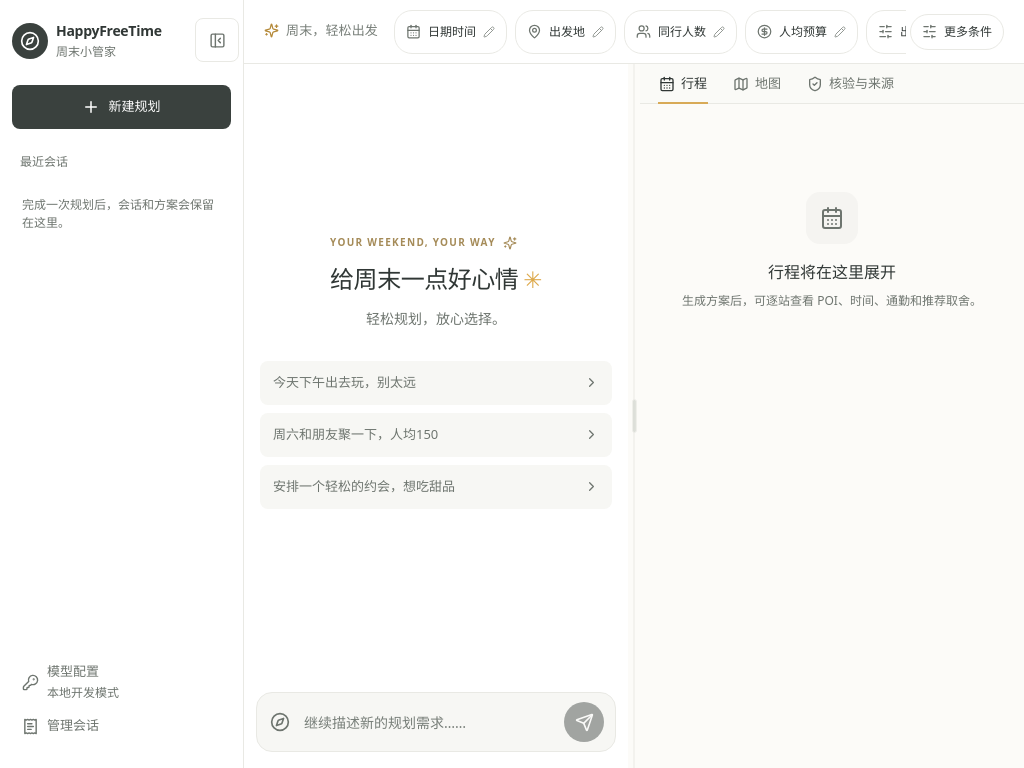
Scenario: planning workspace › shows honest public model usage for fallback records
Type "今天下午出去玩" into the field named "描述你的空闲时间和偏好".
click(430, 722); type("今天下午出去玩")  # box [296, 700, 564, 744]
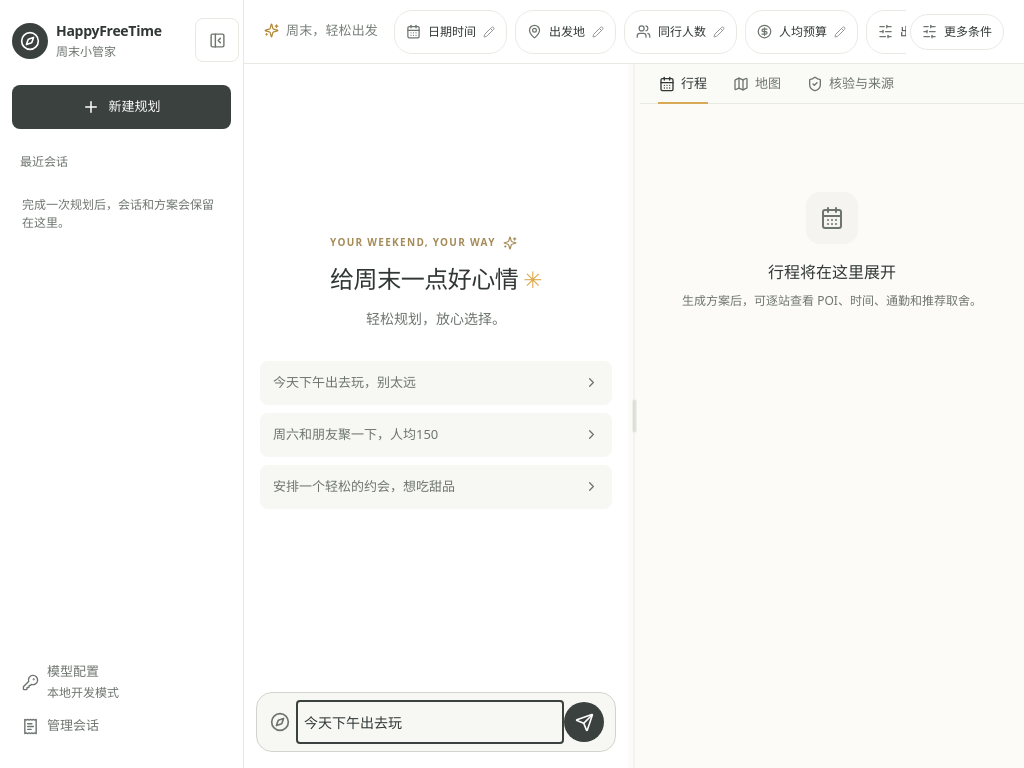
Click the button named "发送需求".
click(584, 722)  # box [564, 702, 604, 742]
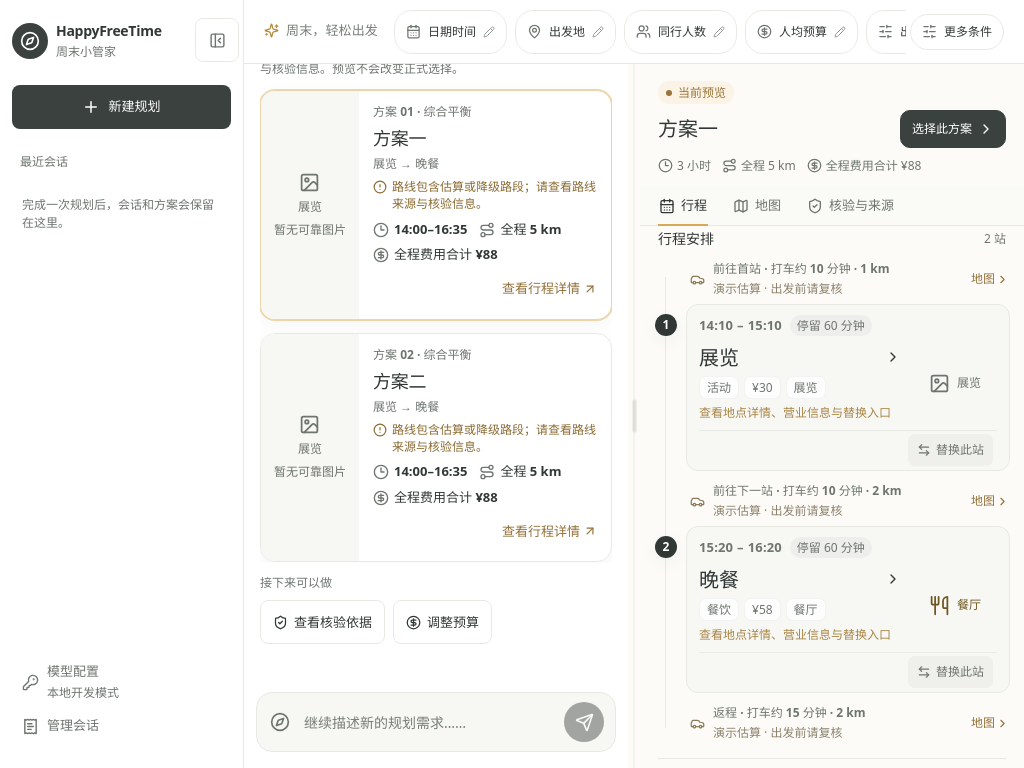
Click the tab "核验与来源".
click(850, 206)  # box [806, 186, 895, 225]
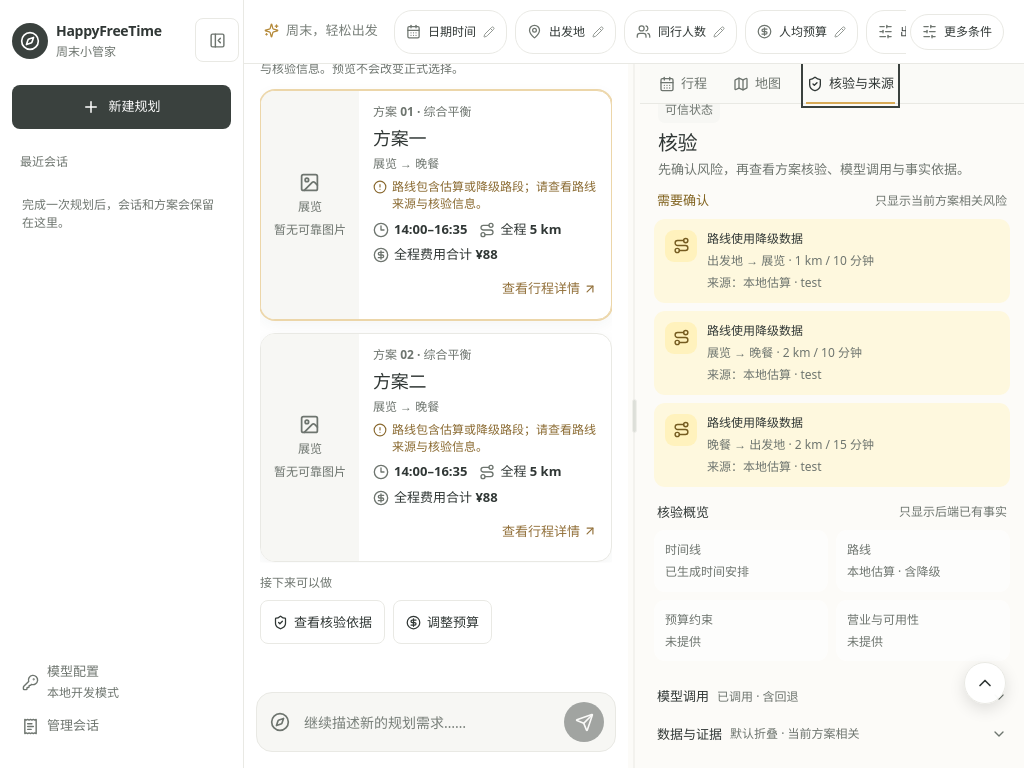
expect the element named "本轮模型使用" does not show "private-diagnostic-code": met, box [640, 685, 1023, 710]
expect the element named "本轮模型使用" shows "已调用 · 含回退": met, box [717, 688, 798, 705]
